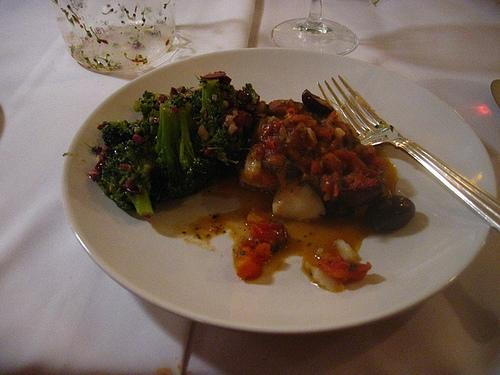broccoli: (135, 96, 210, 200), (97, 140, 155, 216), (200, 127, 242, 166), (200, 77, 232, 120), (102, 122, 134, 148), (138, 90, 158, 111)
